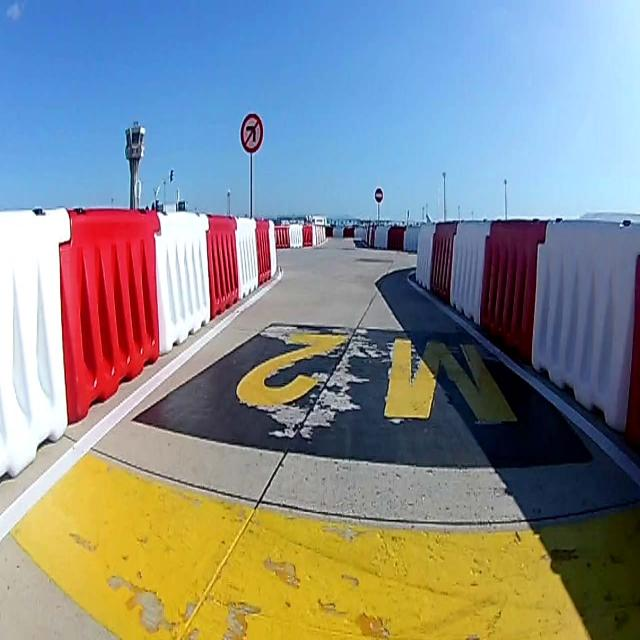soladonulmez: (240, 115, 263, 153)
